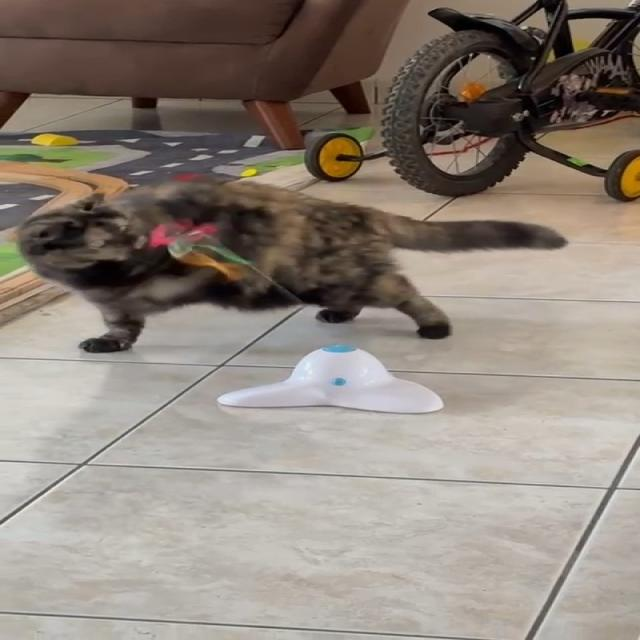authorized: (8, 175, 568, 352)
